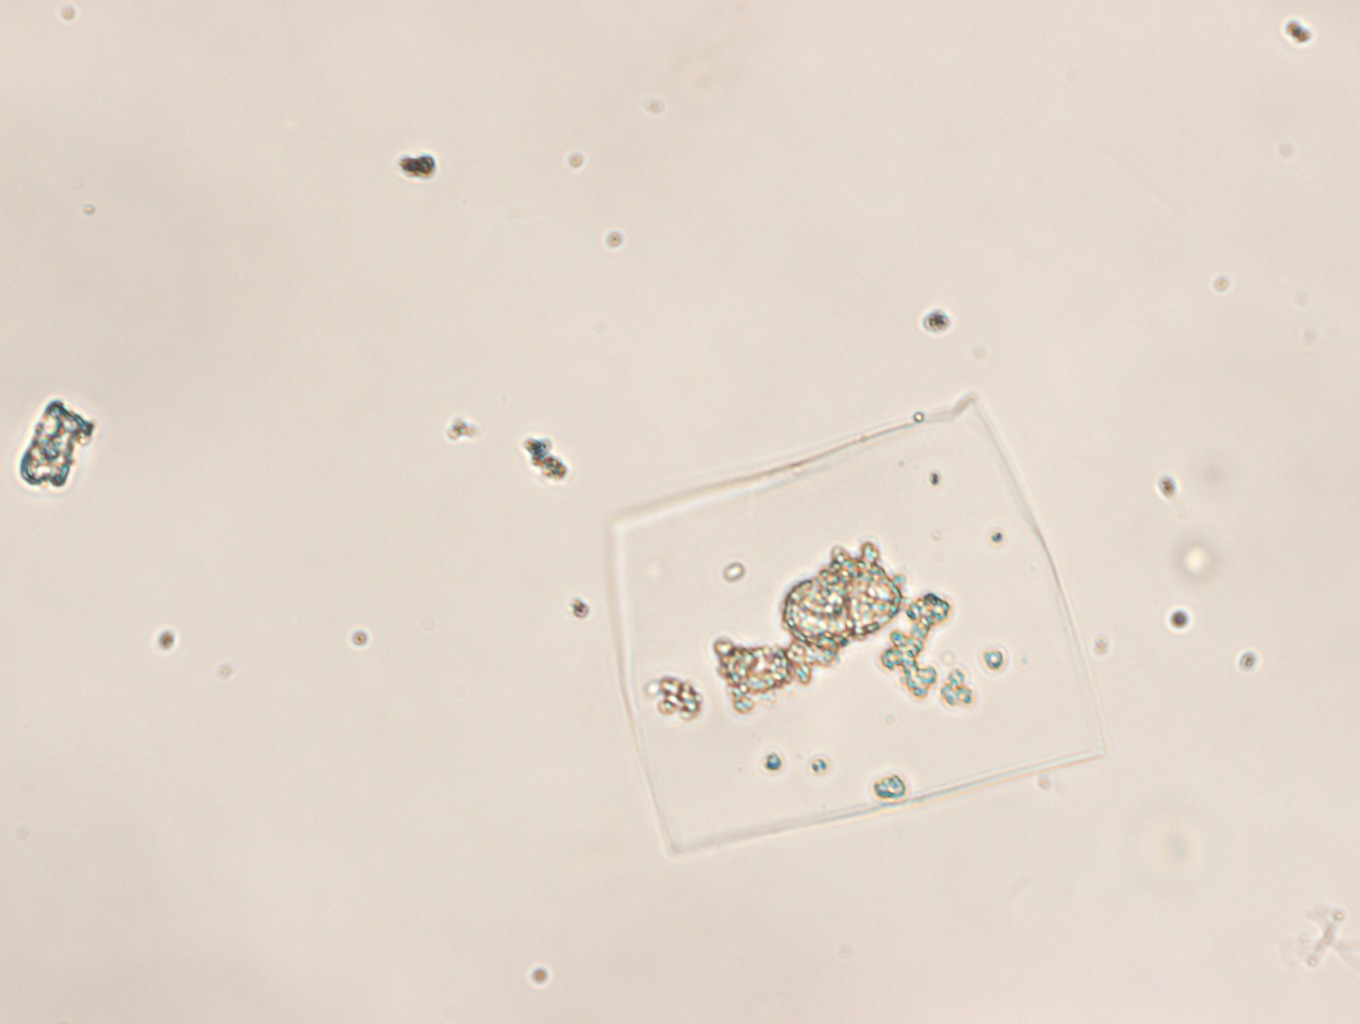helicotheca: (615, 393, 1111, 857)
